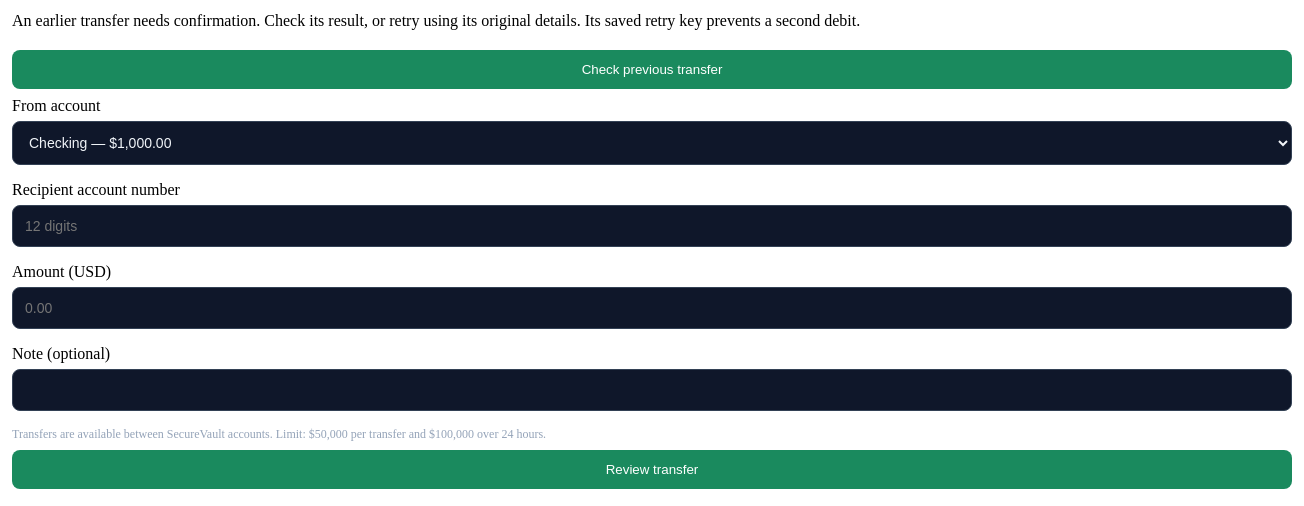
Test: Transfer authorization and stable retries › recovers a completed payment after the tab data is lost using only an opaque persistent key
The image size is (1304, 506).
Click the button "Check previous transfer" at (652,70), box [12, 50, 1292, 89]
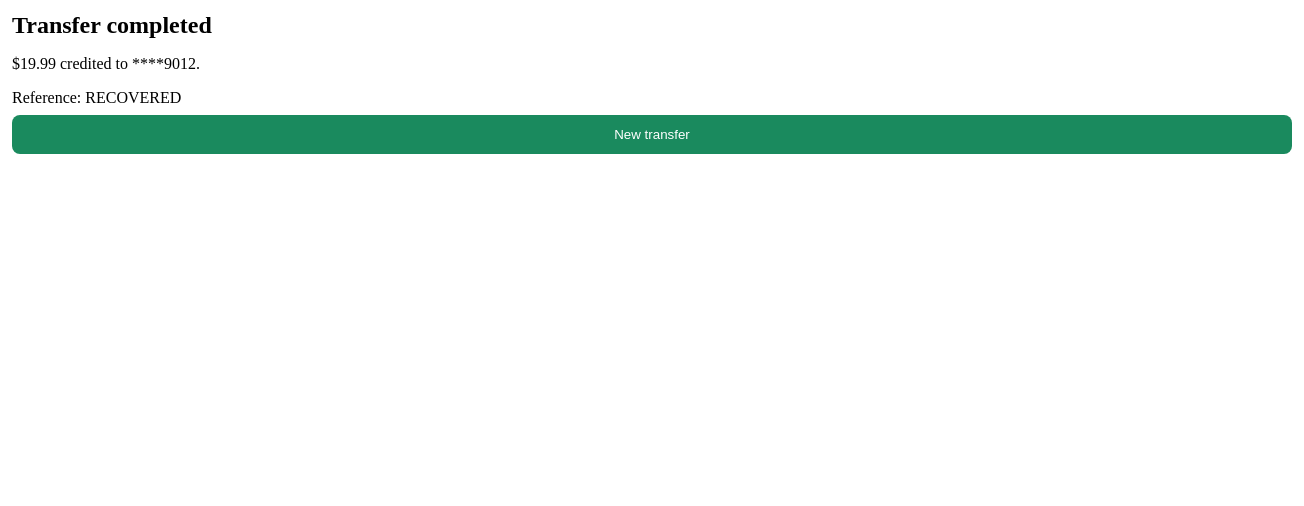
Check: the heading "Transfer completed" is shown, box [12, 12, 212, 38]
